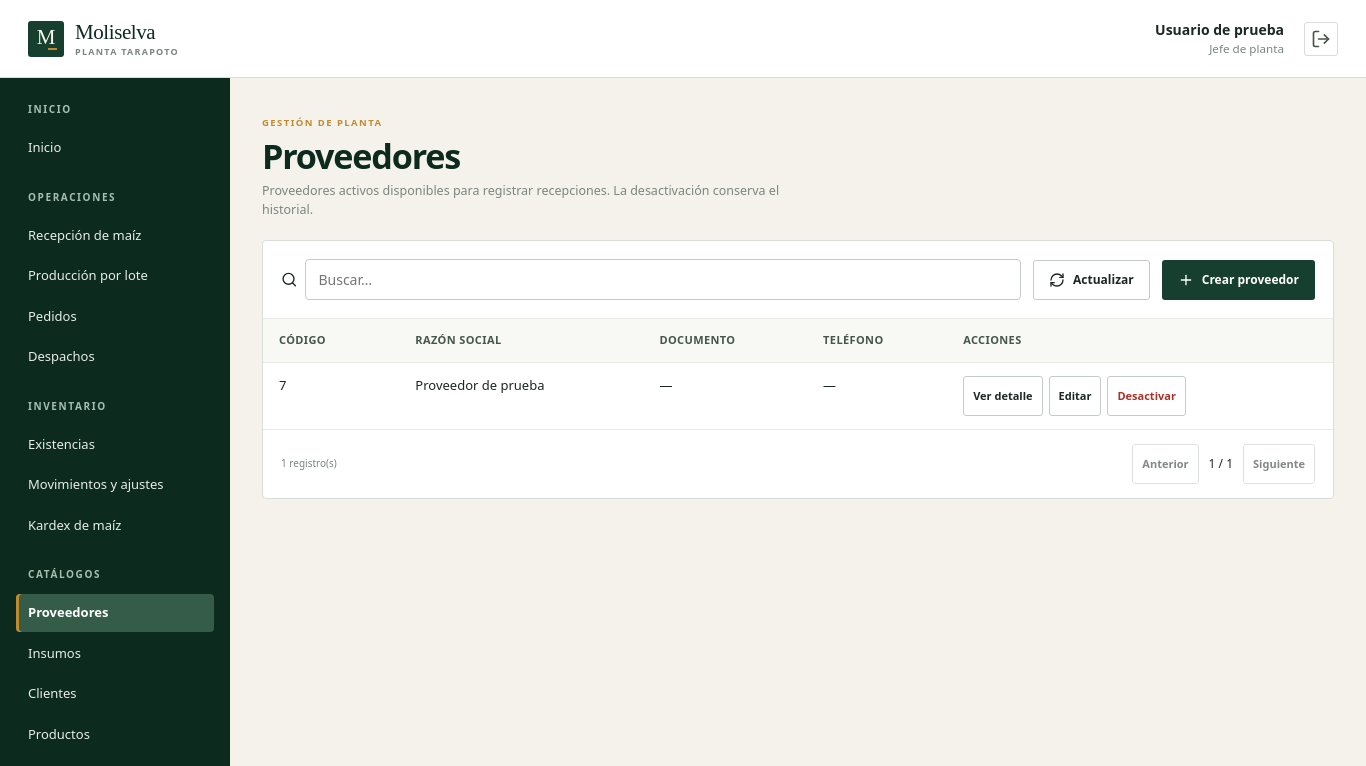
Test: confirma desactivación y procesa respuesta 204
The image size is (1366, 766).
Click the button "Desactivar". click: (1147, 396)
box: [1108,376,1186,416]
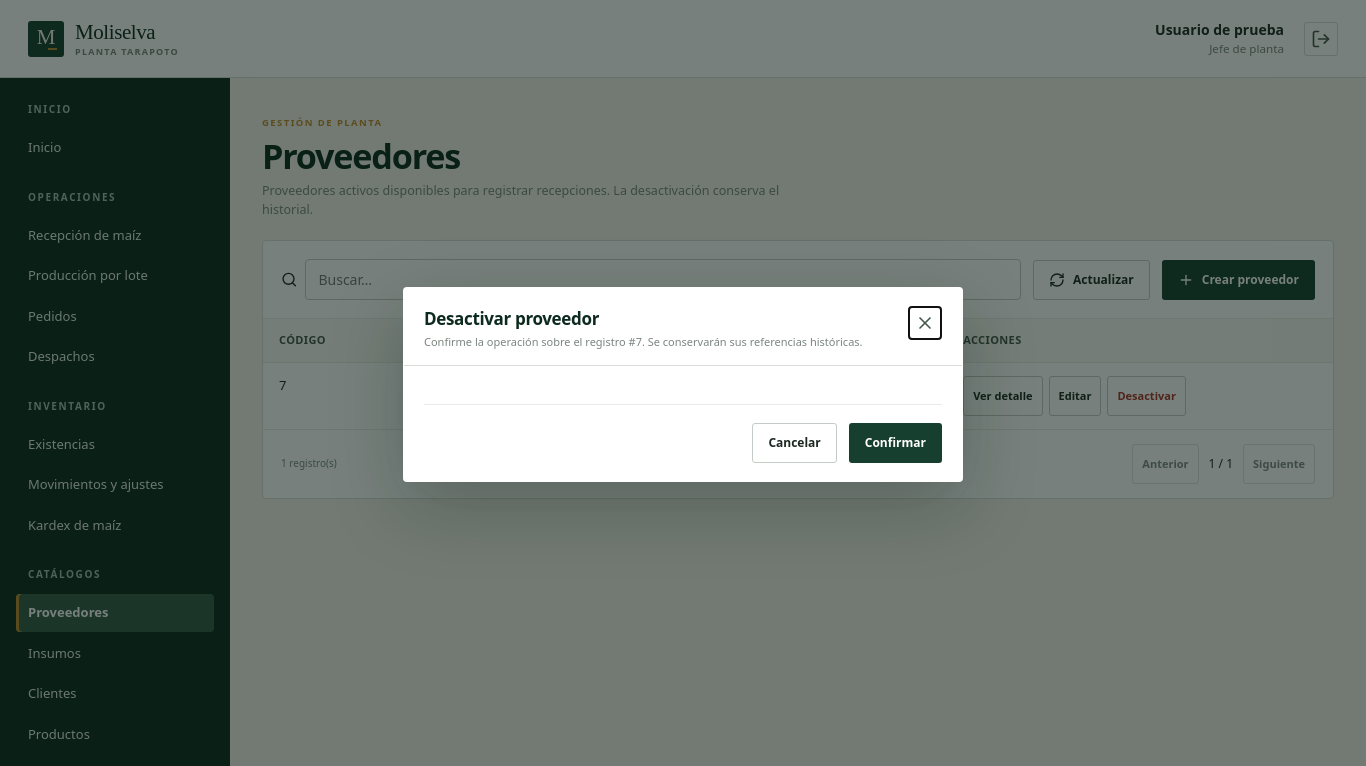
Check: the button "Confirmar" is shown
Click the button "Confirmar". click: (895, 442)
box: [849,422,942,462]
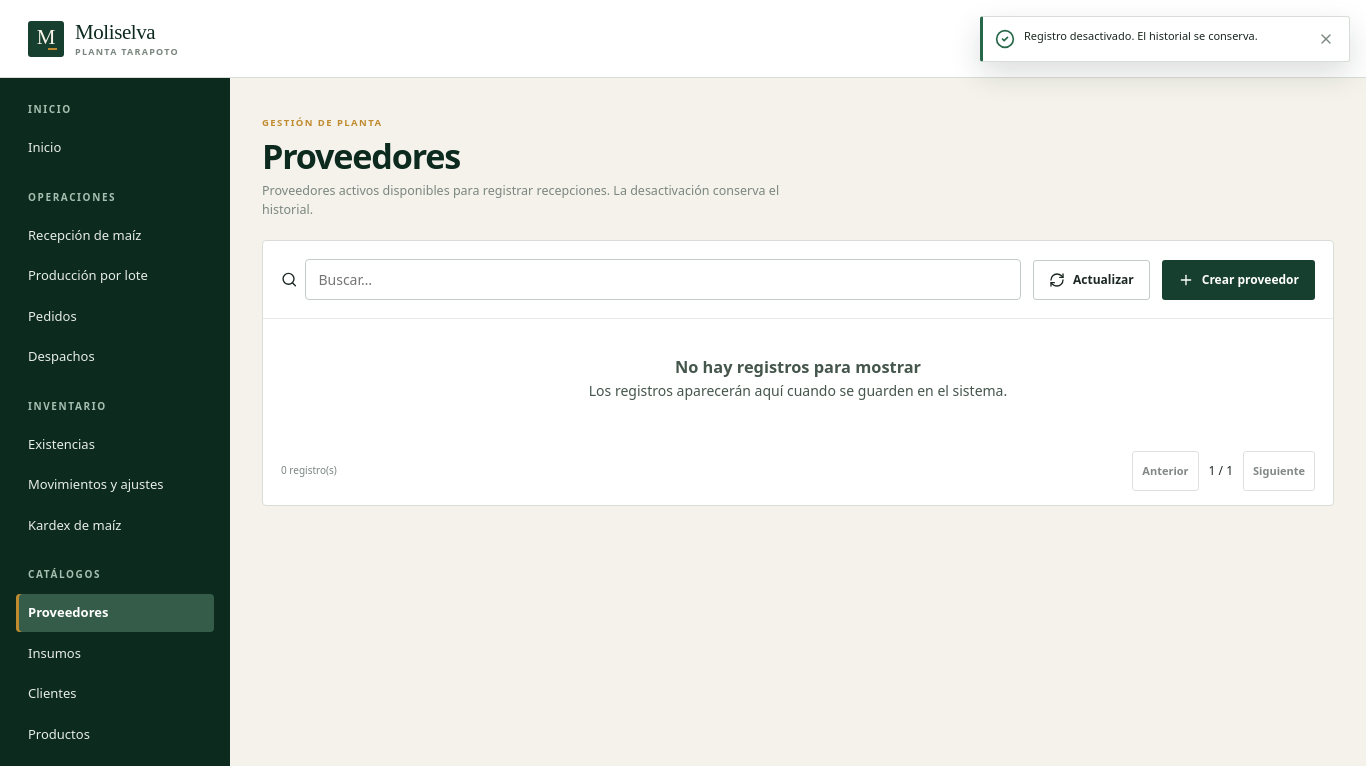
Check: the dialog is gone
